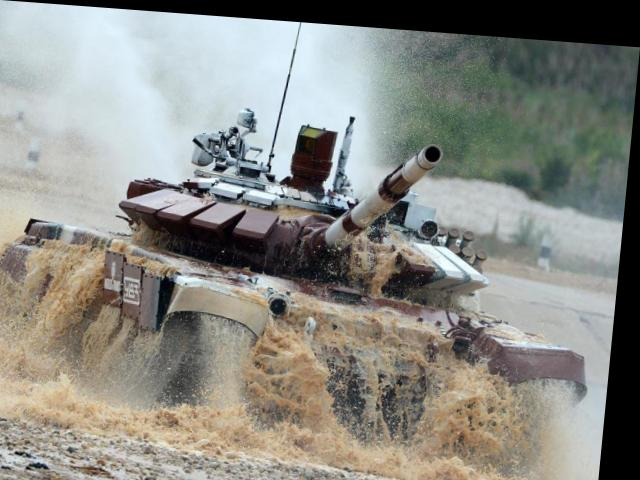tank: (0, 91, 608, 442)
